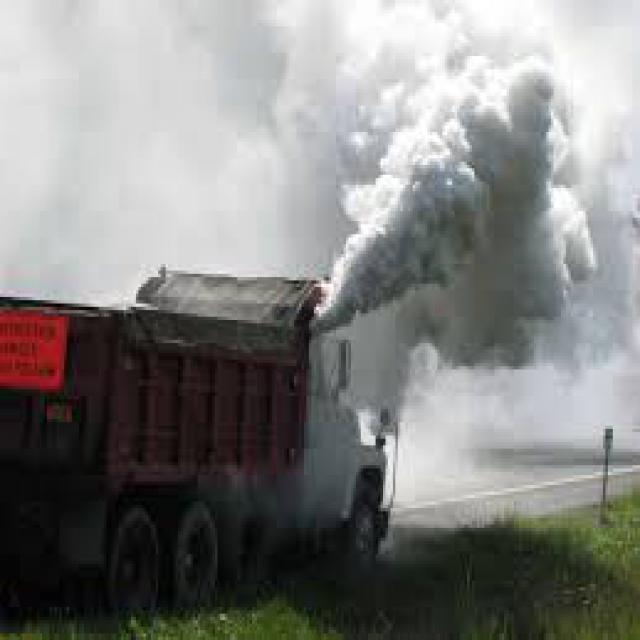smoke: (304, 23, 637, 373)
